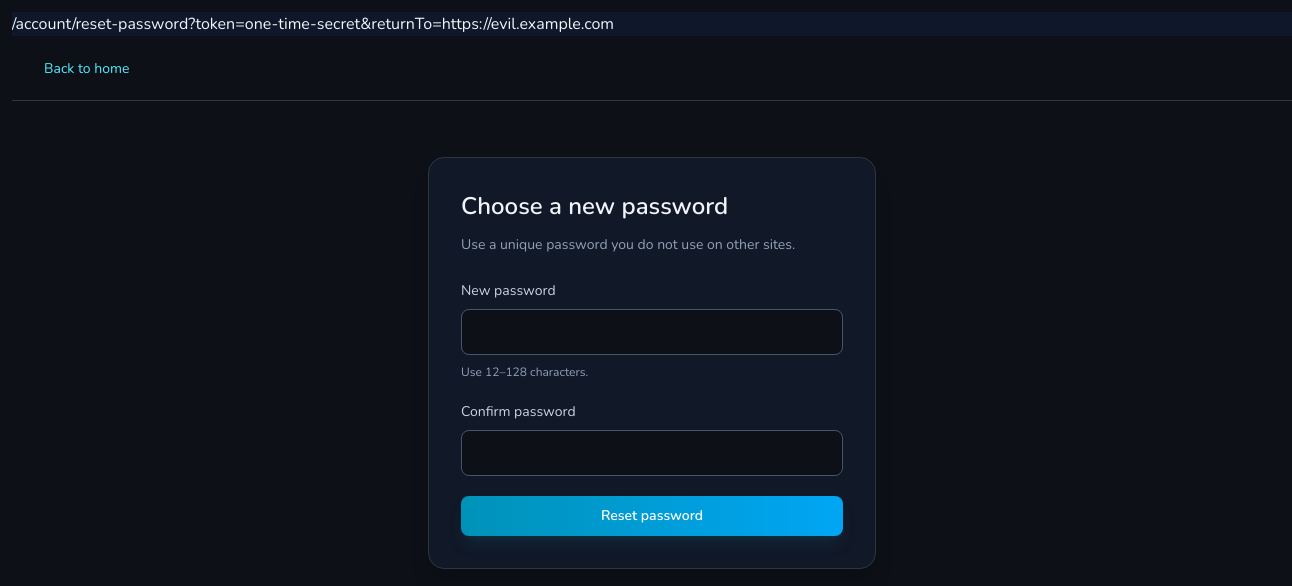
Scenario: account email and password flows › scrubs the reset token after success without automatically signing in
The width and height of the screenshot is (1292, 586).
Type "New password 123" into the password field labelled "New password" at (652, 332), box [461, 309, 843, 355]
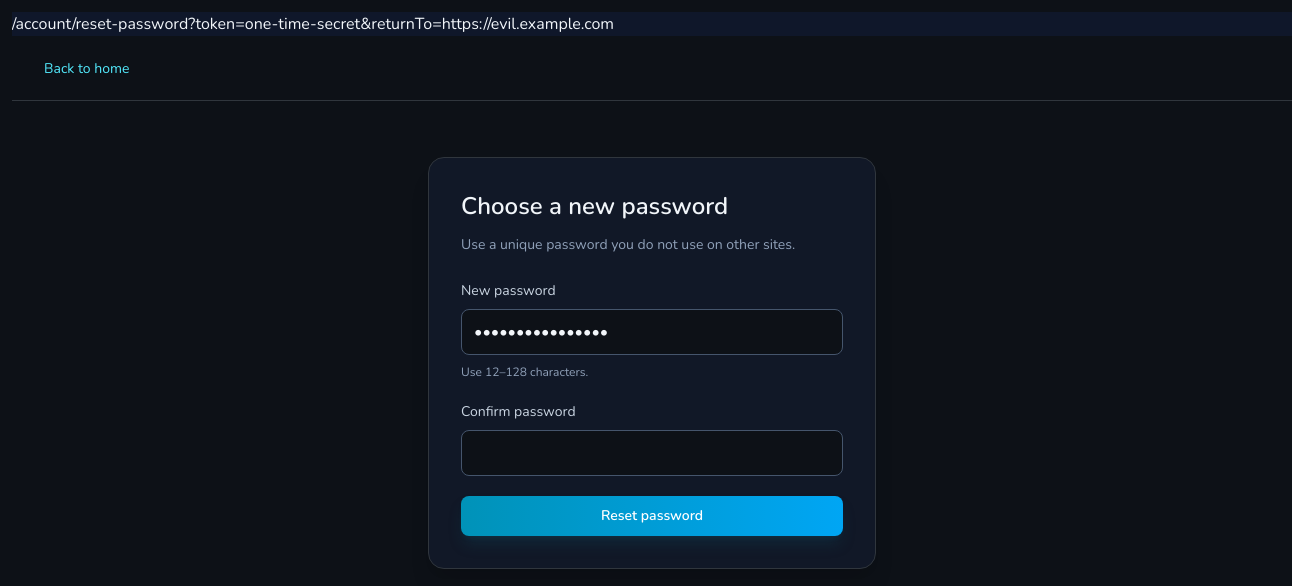
Type "New password 123" into the password field labelled "Confirm password" at (652, 453), box [461, 430, 843, 476]
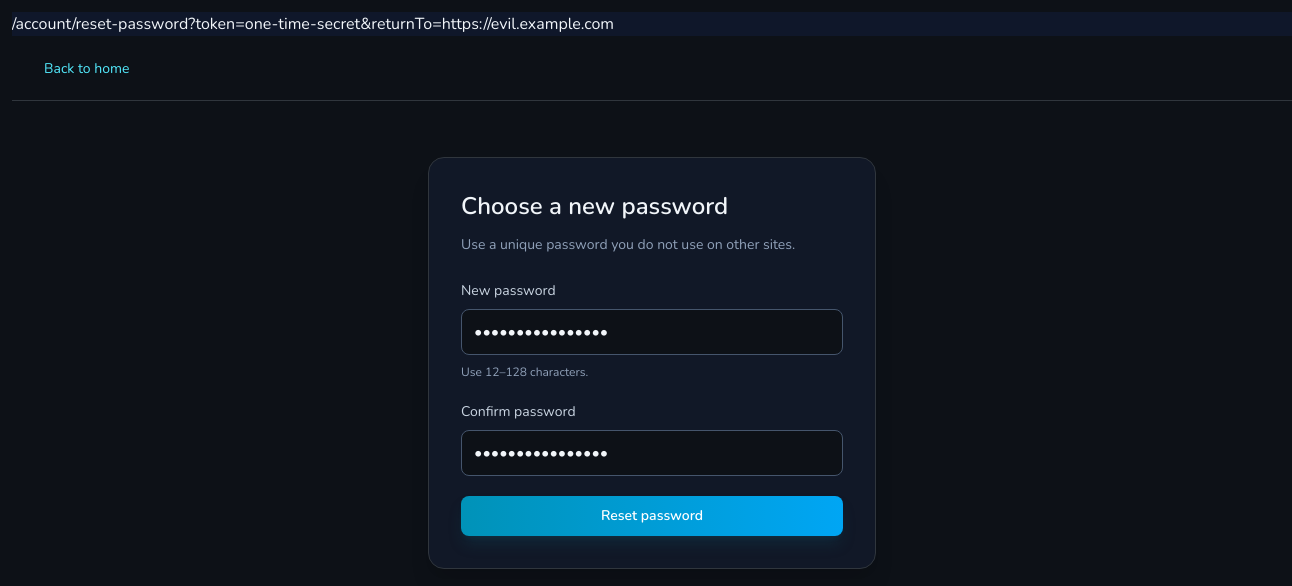
Submit the form "Reset password", box [461, 281, 843, 536]
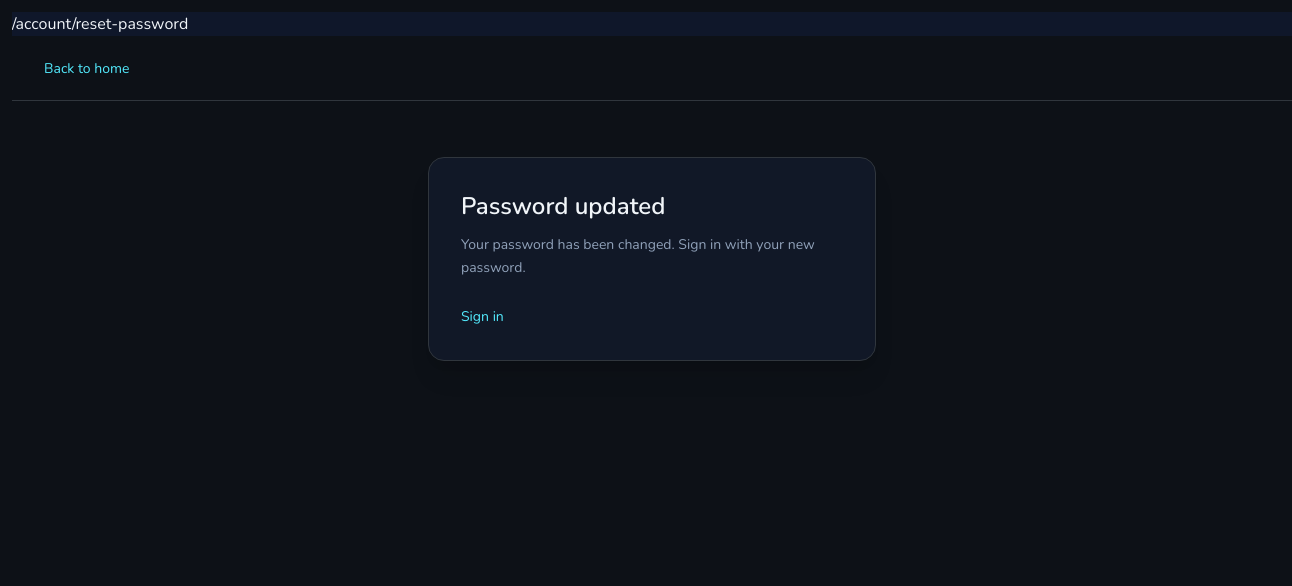
Expected: the text named "Current path" reads "/account/reset-password", [12, 13, 188, 35]
Now the heading "Password updated" is shown, box [461, 190, 665, 222]
